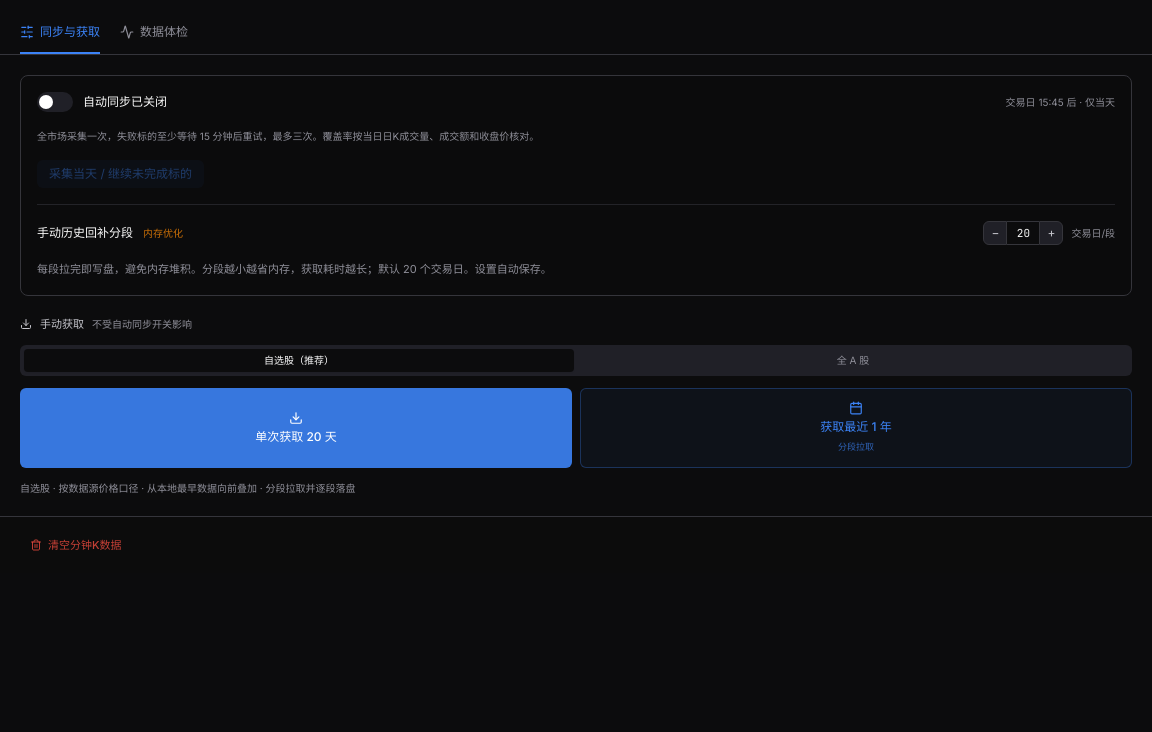
Scenario: 体检加载时显示扫描进度
Click the tab "数据体检". click: [154, 33]
box: left=120, top=12, right=188, bottom=54
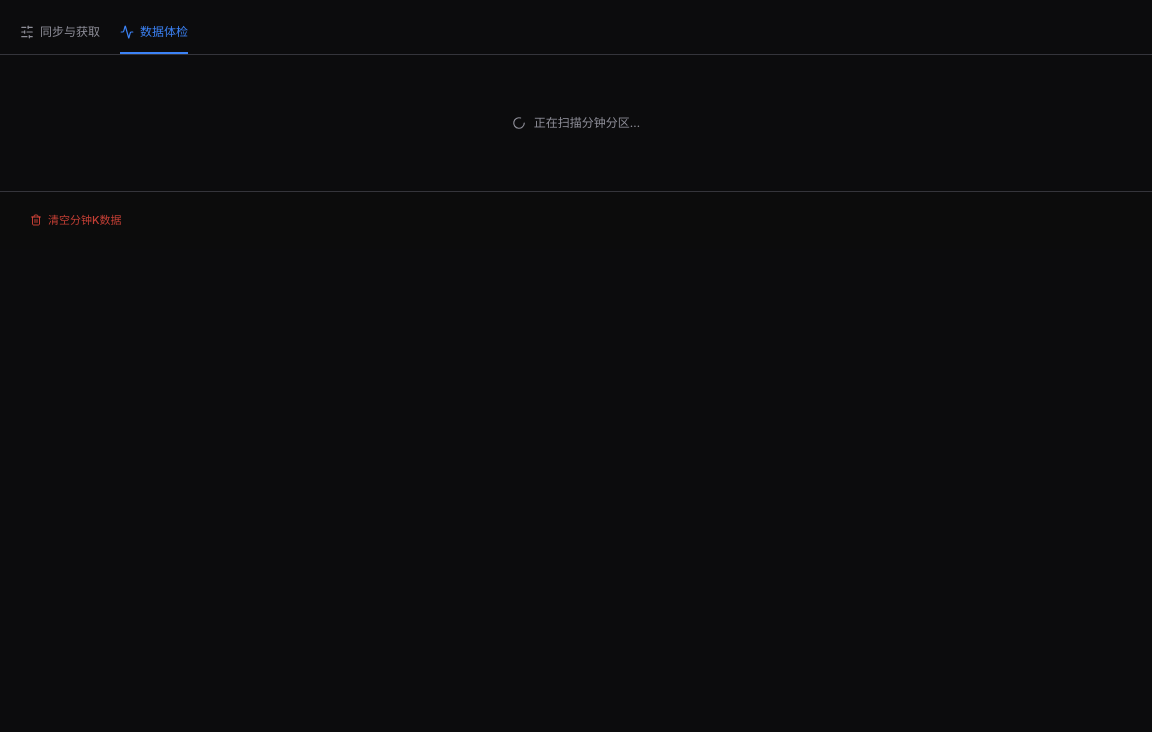
Check: the text "正在扫描分钟分区" is shown, box left=534, top=115, right=640, bottom=130
